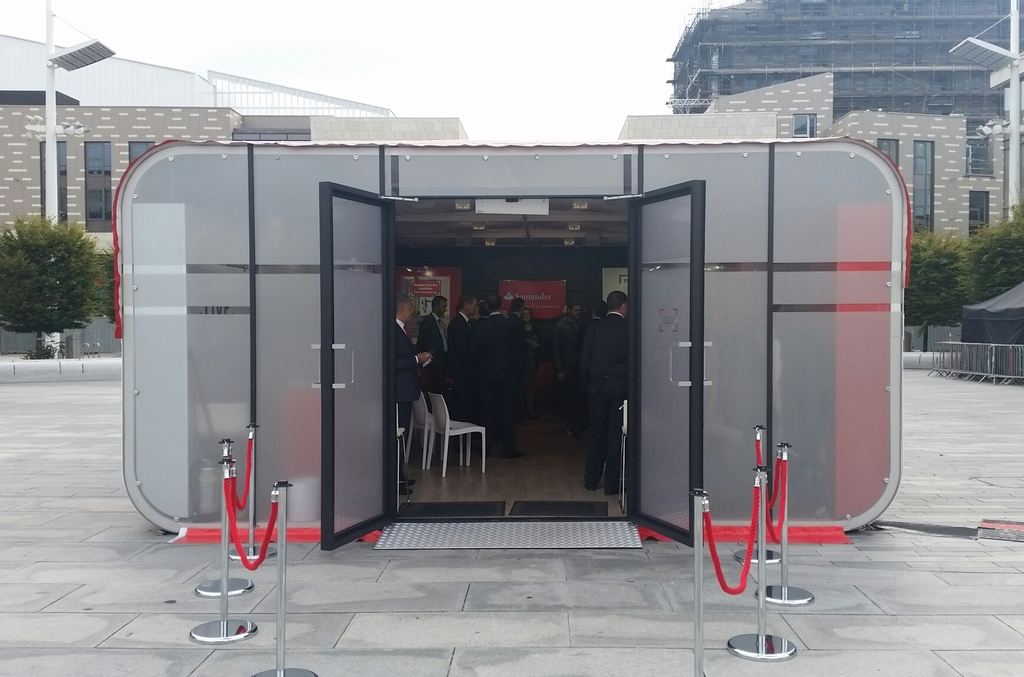person: (444, 295, 482, 411)
